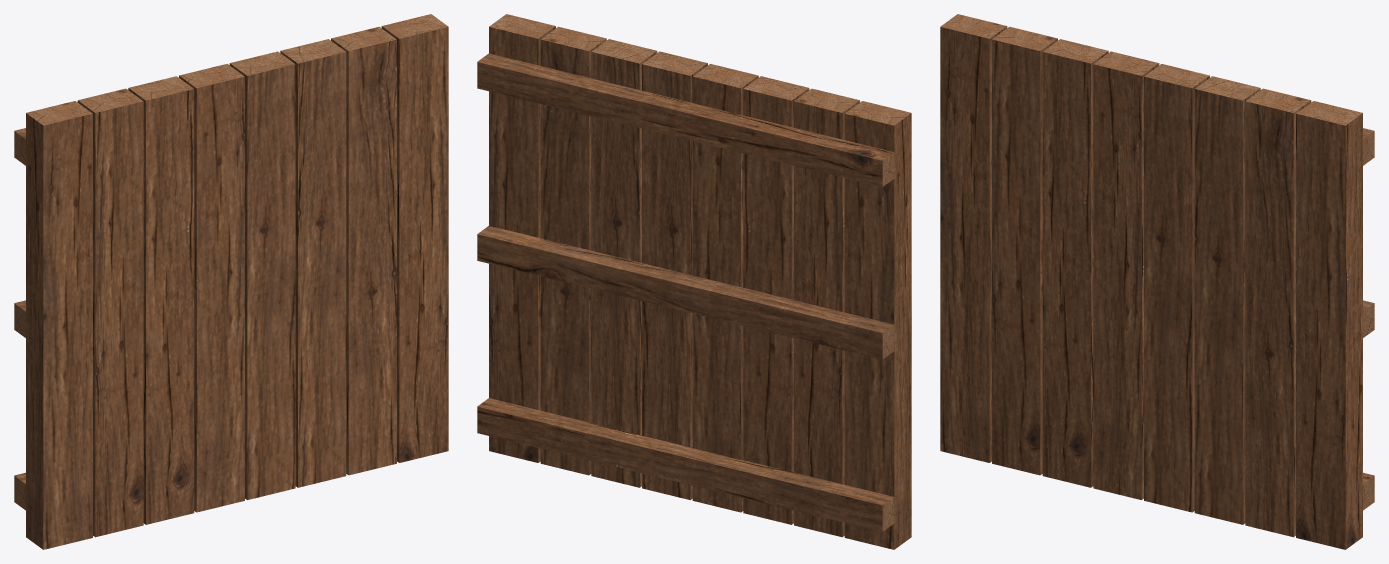
File: SquareInfill_2x2x0.25.fbx
3 renders of one model, left to right at view 1: azimuth 30°, elevation 25°; view 2: azimuth 150°, elevation 25°; view 3: azimuth 330°, elevation 25°, orthographic.
Parts seen in each view (by area): view 1: SquareInfill_SquareInfill_2x2x0.25; view 2: SquareInfill_SquareInfill_2x2x0.25; view 3: SquareInfill_SquareInfill_2x2x0.25.
Boxes of the visible parts, x1,y1,x2,y2 form: SquareInfill_SquareInfill_2x2x0.25: (14, 14, 448, 549); SquareInfill_SquareInfill_2x2x0.25: (477, 14, 911, 549); SquareInfill_SquareInfill_2x2x0.25: (940, 14, 1374, 549).
Bounding box in the file's own units: 2 × 2 × 0.25.
